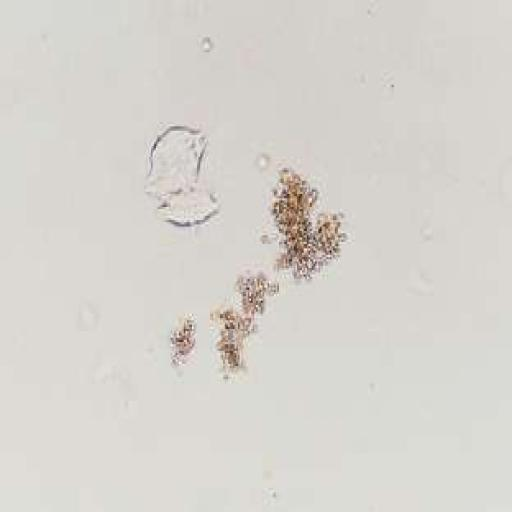BFU-E: (271, 168, 345, 279), (217, 307, 253, 373), (236, 272, 277, 320), (171, 318, 194, 364)
